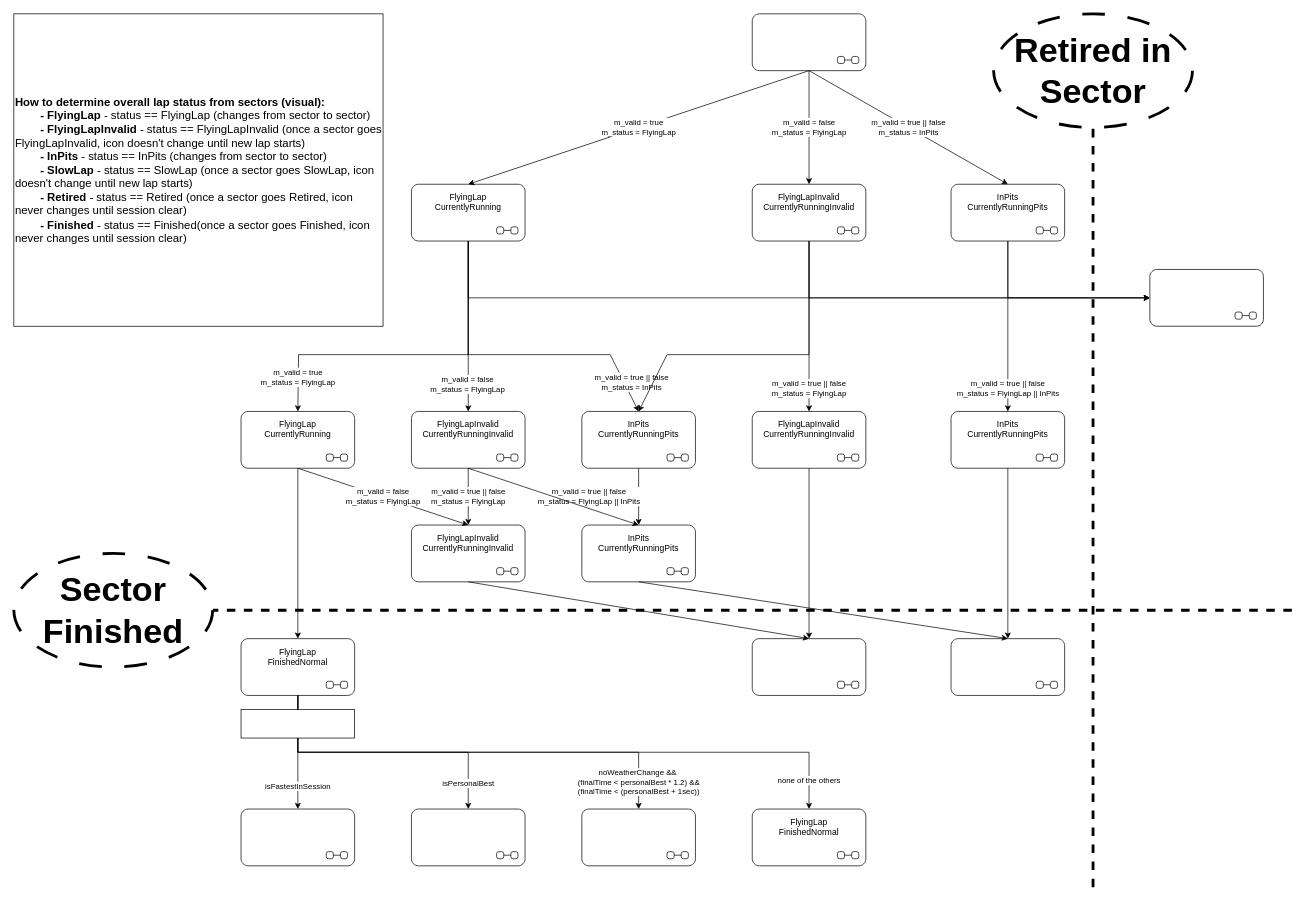
Image size: 1306x901. Some labels were removed from this diagram. Each missing label, with the centre of its shape:
"evaluateFinishedSector()" belongs at (297,723).
"FlyingLap FinishedPersonalBest" belongs at (468,837).
"FlyingLap FinishedSessionBest" belongs at (297,837).
"FlyingLapInvalid FinishedInvalid" belongs at (809,666).
"InPits FinishedPits" belongs at (1007,666).
"Retired FinishedRetired" belongs at (1206,297).
"SlowLap FinishedNormal" belongs at (638,837).
"«initial state» InvalidUnknown NotRun" belongs at (809,42).
